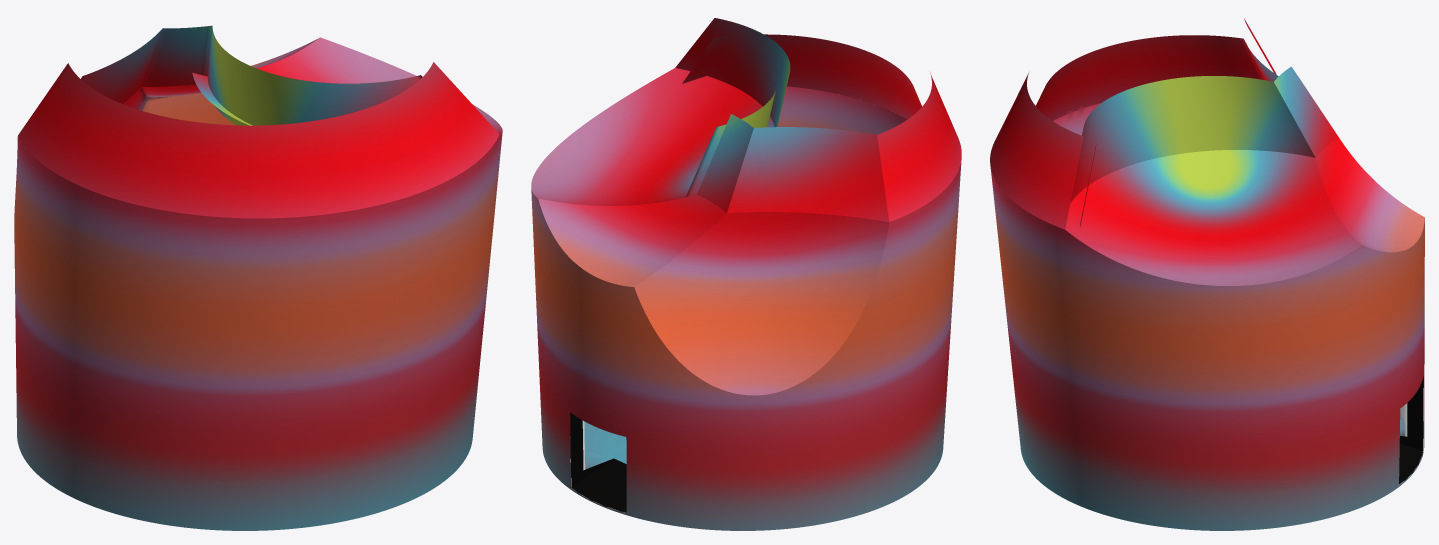
3 renders of one model, left to right at view 1: azimuth 30°, elevation 25°; view 2: azimuth 150°, elevation 25°; view 3: azimuth 270°, elevation 25°, orthographic. The views are drawn at different scales.
Visible parts, largest first — view 1: Solids, Solids_2; view 2: Solids, Solids_2, Frames; view 3: Solids, Solids_2, Frames.
Boxes of the visible parts, x1,y1,x2,y2 form: Solids: [14, 37, 502, 530]; Solids_2: [81, 25, 422, 125]; Solids: [531, 18, 961, 530]; Solids_2: [584, 34, 921, 469]; Frames: [570, 412, 626, 512]; Solids: [990, 18, 1424, 530]; Solids_2: [1036, 35, 1405, 436]; Frames: [1399, 376, 1423, 484].
Size of the model in its own units: 21.01 by 19.13 by 21.12.
Materials: 3 (3 with a texture image).
